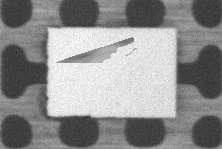DIE_INK: (79, 23, 207, 42)
